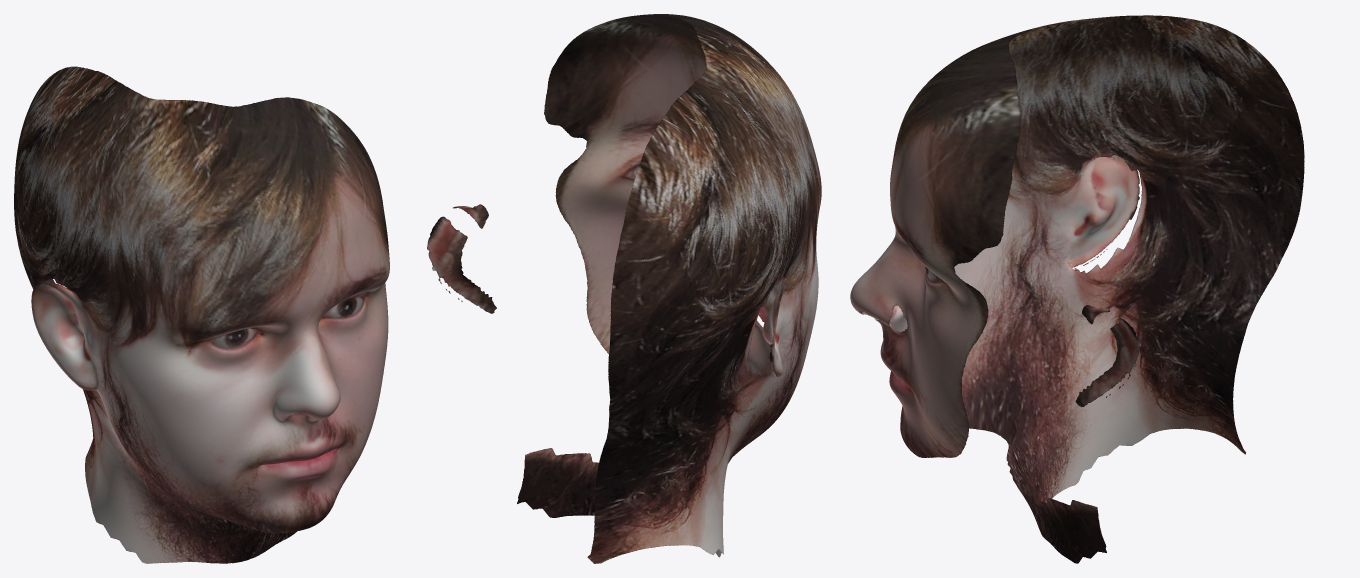
File: DocFaceTex.fbx
The picture shows the model from 3 angles, left to right: view 1: azimuth 30°, elevation 25°; view 2: azimuth 150°, elevation 25°; view 3: azimuth 270°, elevation 25°; orthographic projection. The views are drawn at different scales.
Parts seen in each view (by area): view 1: FaceBuilderHead; view 2: FaceBuilderHead; view 3: FaceBuilderHead.
Part boxes in pixels (left/top/right/bottom): FaceBuilderHead: left=14, top=66, right=389, bottom=563; FaceBuilderHead: left=427, top=14, right=821, bottom=563; FaceBuilderHead: left=850, top=15, right=1304, bottom=563.
Size of the model in its own units: 171 by 243 by 219.
